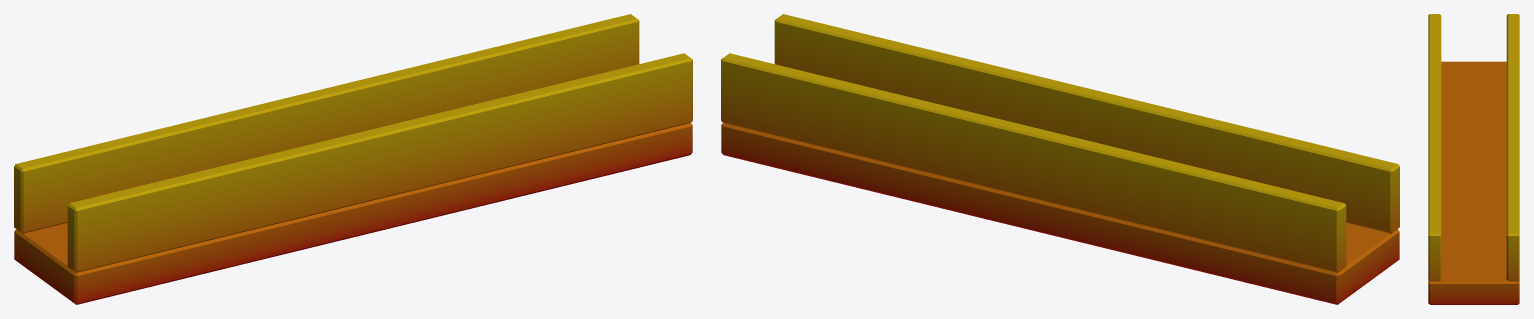
File: aqueduct_channel.glb
3 views of the same model, side by side, from view 1: azimuth 30°, elevation 25°; view 2: azimuth 150°, elevation 25°; view 3: azimuth 270°, elevation 25° (orthographic). The views are drawn at different scales.
Parts seen in each view (by area): view 1: aqueduct_channel; view 2: aqueduct_channel; view 3: aqueduct_channel.
Part boxes in pixels (x1=…): aqueduct_channel: x1=14, y1=14, x2=692, y2=304; aqueduct_channel: x1=721, y1=14, x2=1399, y2=304; aqueduct_channel: x1=1428, y1=14, x2=1519, y2=304.
Size of what is drawn, in the model's own units: 8 by 1.2 by 1.4.
